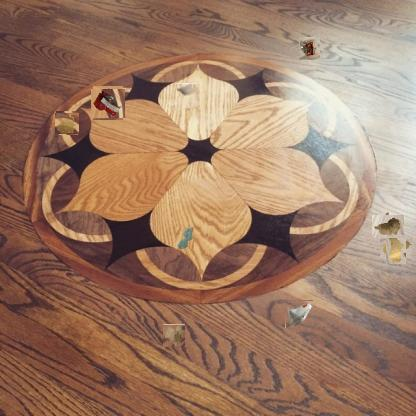dirty: (92, 88, 124, 120), (285, 300, 313, 328), (374, 212, 402, 240), (383, 235, 409, 261), (300, 37, 322, 62), (163, 325, 186, 347), (178, 83, 198, 96)
liquid: (56, 112, 78, 134), (176, 227, 194, 249)
